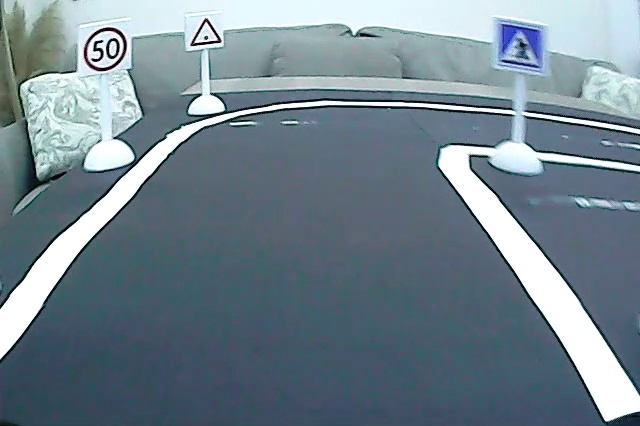green light: (189, 16, 224, 49)
pedestrian crossing: (495, 19, 547, 73)
speed limit 50: (81, 25, 129, 74)
